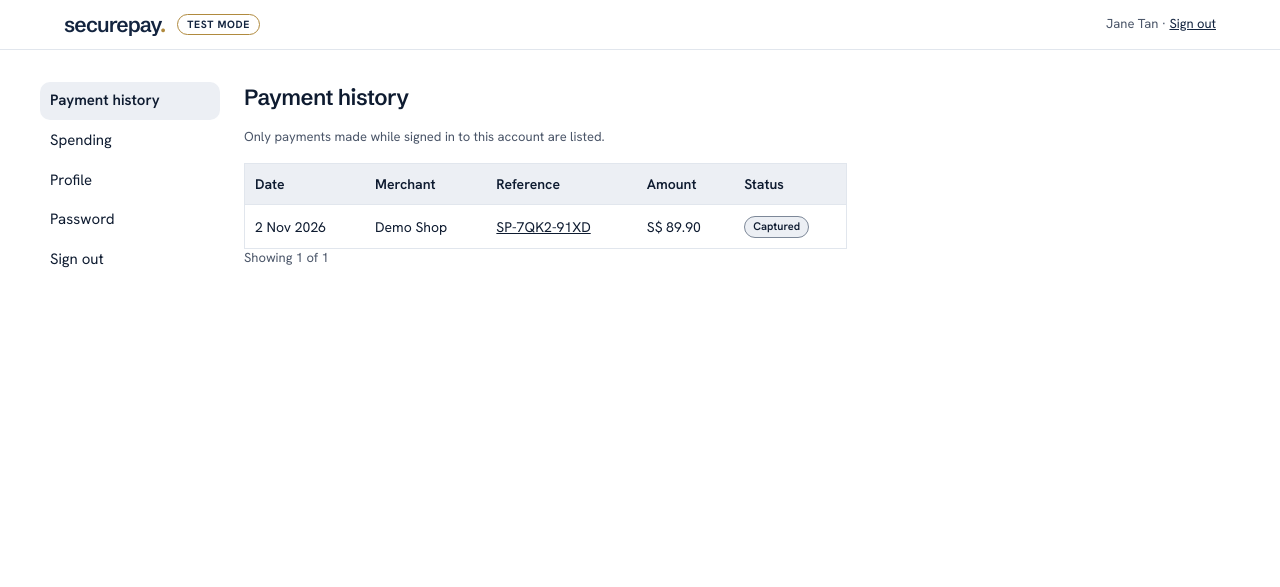
Test: payment history (C11) › lists payments and opens one with its timeline
Check: the heading "Payment history" is shown, box [244,84,409,111]
Check: the text "Jane Tan · Sign out" is shown, box [1106,15,1216,34]
Click the button "SP-7QK2-91XD" at (544, 227), box [496,217,591,237]
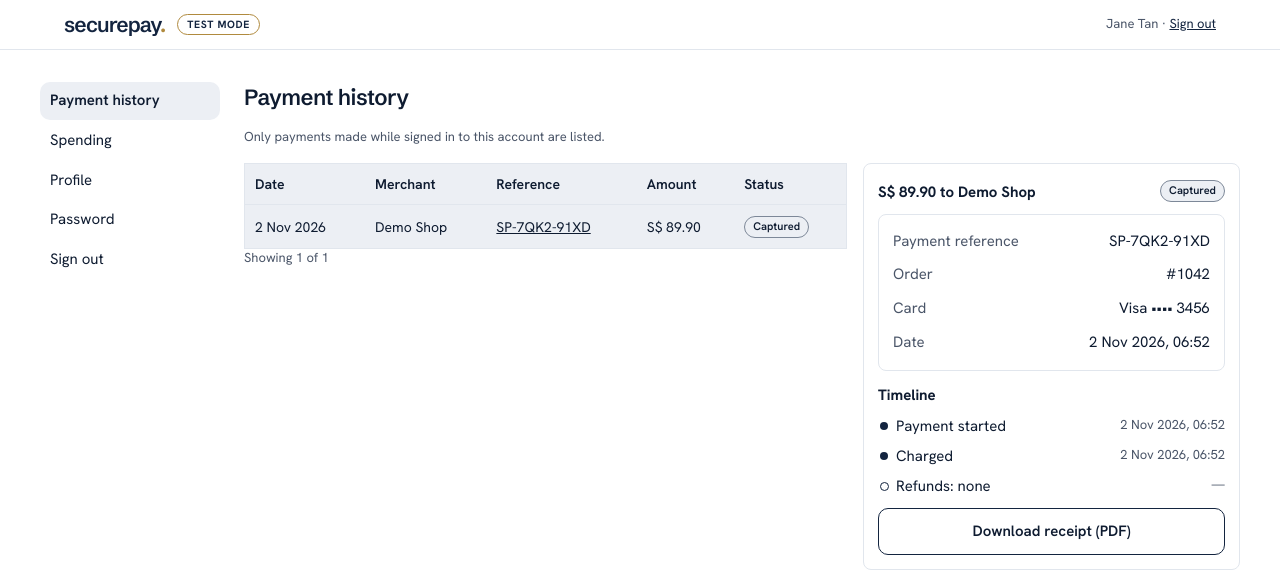
Check: the text "Visa •••• 3456" is shown, box [1119,298,1210,320]
Check: the text "#1042" is shown, box [1166,264,1210,286]
Check: the text "Refunds: none" is shown, box [896,476,991,498]
